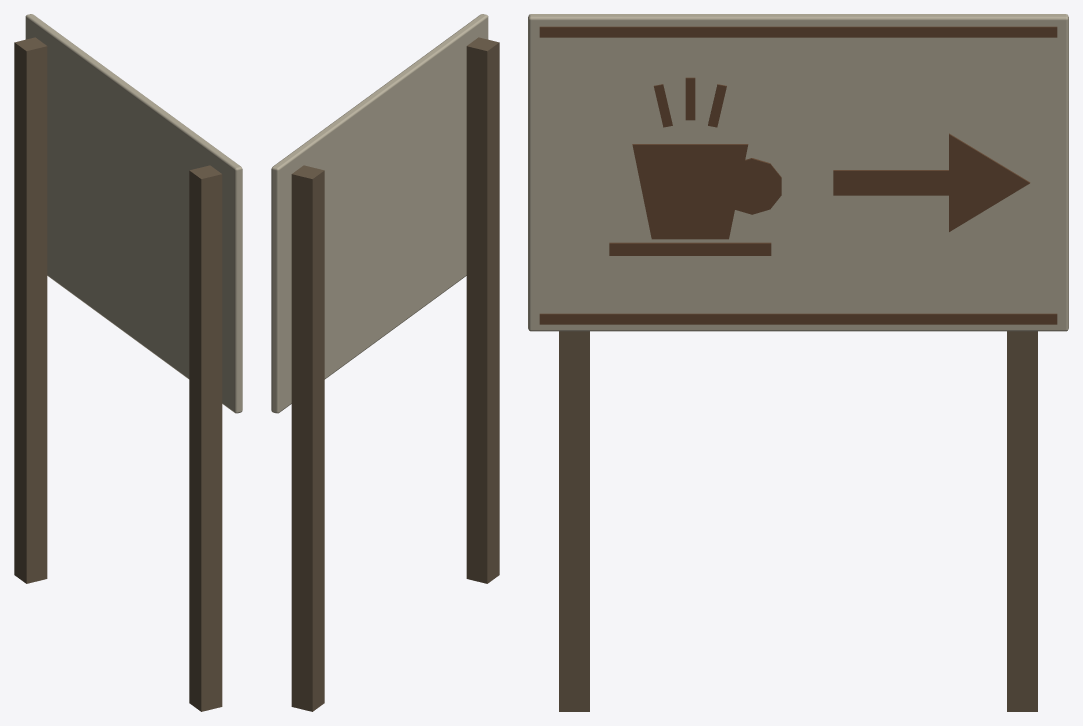
The model's file is SM_Prop_road_cafesign_0.glb.
3 renders of one model, left to right at view 1: azimuth 30°, elevation 25°; view 2: azimuth 150°, elevation 25°; view 3: azimuth 270°, elevation 25°, orthographic. The views are drawn at different scales.
Parts seen in each view (by area): view 1: SM_Prop_road_cafesign_0; view 2: SM_Prop_road_cafesign_0; view 3: SM_Prop_road_cafesign_0.
Boxes of the visible parts, <box> form: SM_Prop_road_cafesign_0: <box>14,14,242,711</box>; SM_Prop_road_cafesign_0: <box>271,14,499,711</box>; SM_Prop_road_cafesign_0: <box>528,14,1068,711</box>.
Size of the model in its own units: 0.122 by 2 by 1.4.
